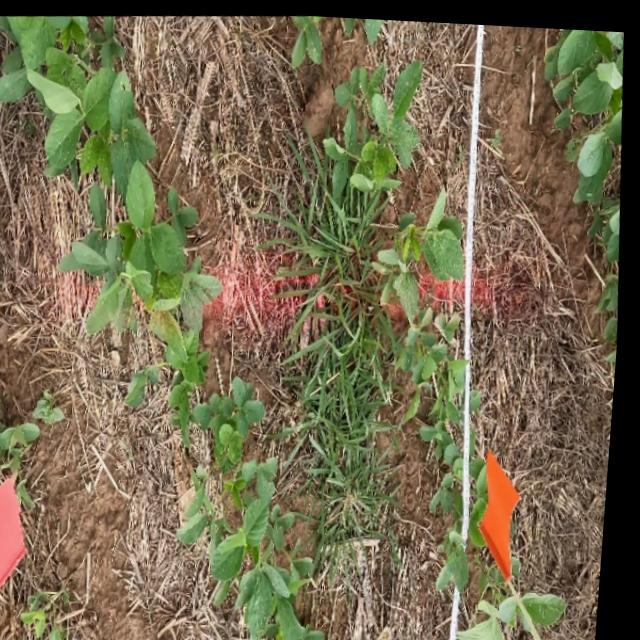grassy_weed: (267, 133, 404, 540)
soy_plant: (0, 15, 331, 640), (381, 188, 478, 583), (546, 23, 624, 359), (325, 56, 422, 188), (377, 185, 467, 319), (470, 587, 574, 640), (0, 397, 47, 494), (31, 587, 79, 640), (293, 13, 323, 62), (477, 460, 494, 542), (345, 14, 382, 39), (42, 403, 68, 422)
